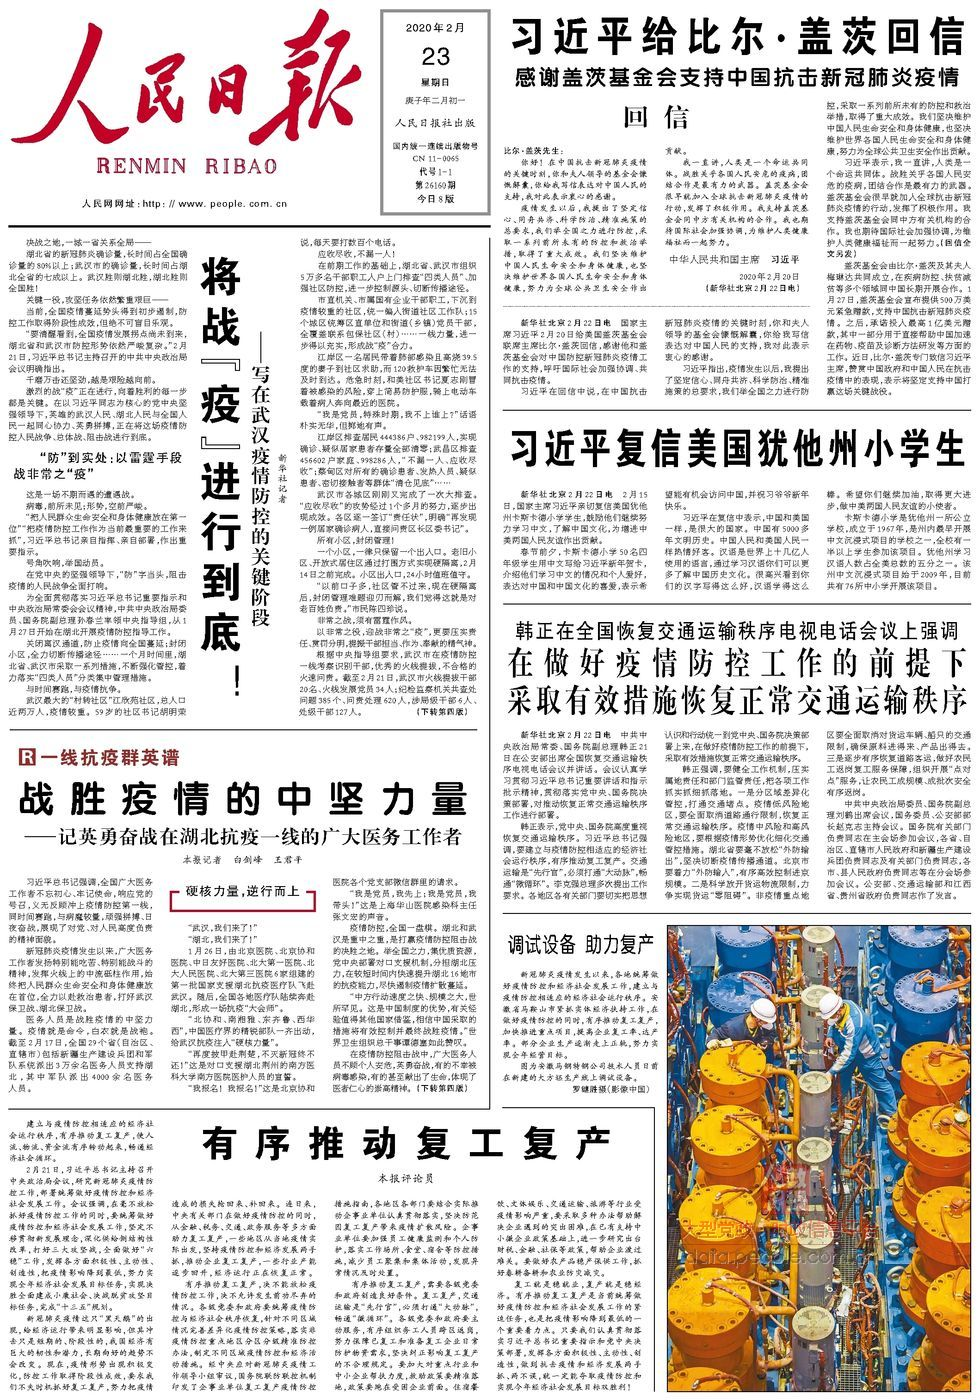pic: (662, 919, 975, 1395)
